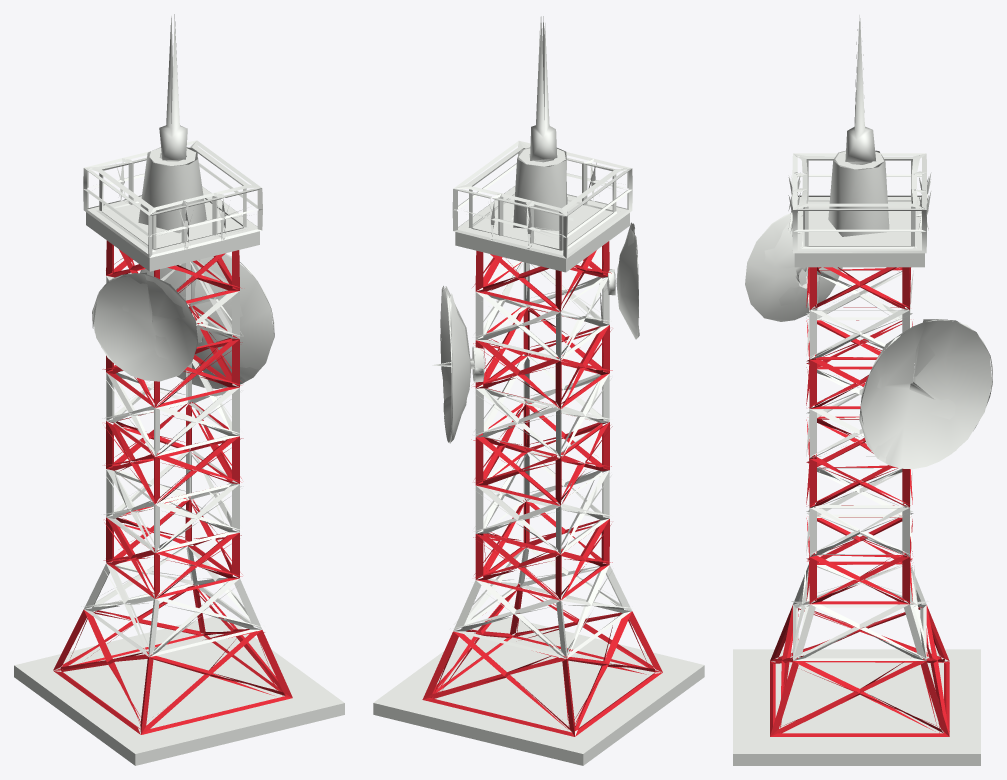
The model's file is Communication.glb.
The picture shows the model from 3 angles, left to right: view 1: azimuth 30°, elevation 25°; view 2: azimuth 150°, elevation 25°; view 3: azimuth 270°, elevation 25°; orthographic projection. The views are drawn at different scales.
Visible parts, largest first — view 1: COmunitation; view 2: COmunitation; view 3: COmunitation.
Part boxes in pixels (x1,y1,x2,y2): COmunitation: (14, 14, 344, 765); COmunitation: (373, 16, 704, 765); COmunitation: (733, 15, 992, 765).
Size of the model in its own units: 157 by 488 by 165.
1 material, 1 textured.
